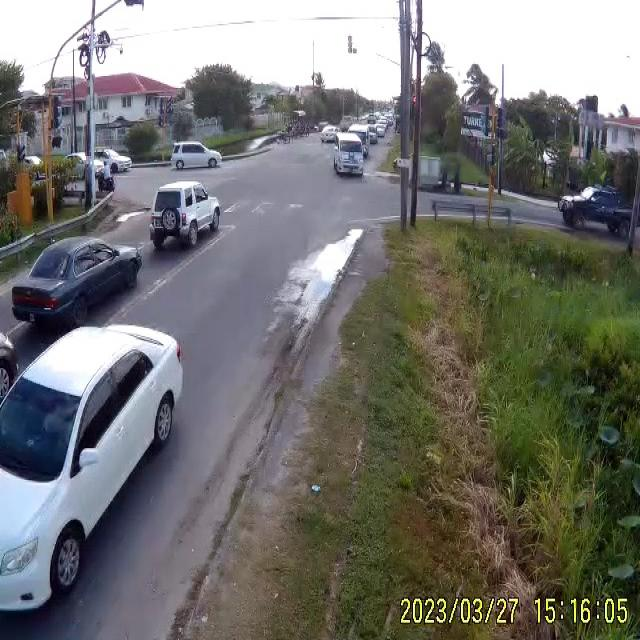car: (0, 318, 182, 615), (11, 236, 141, 337), (150, 181, 222, 249), (562, 188, 633, 234), (172, 142, 224, 171), (332, 135, 365, 179), (321, 126, 340, 146)
